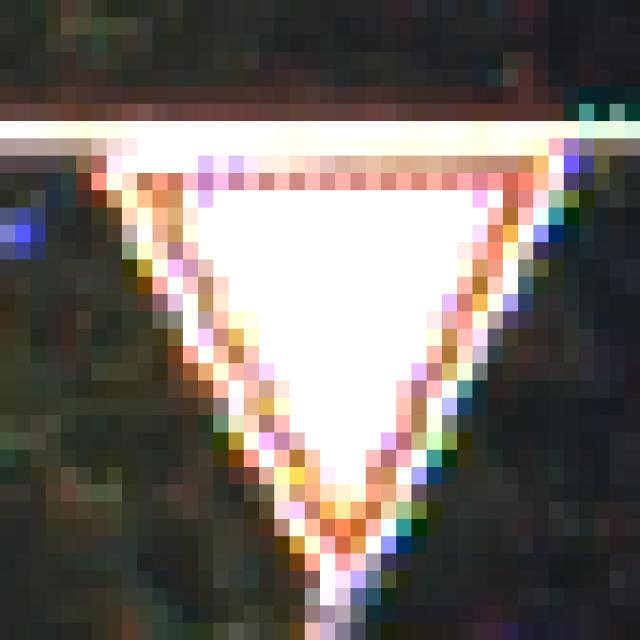Give Way: (93, 88, 550, 537)
